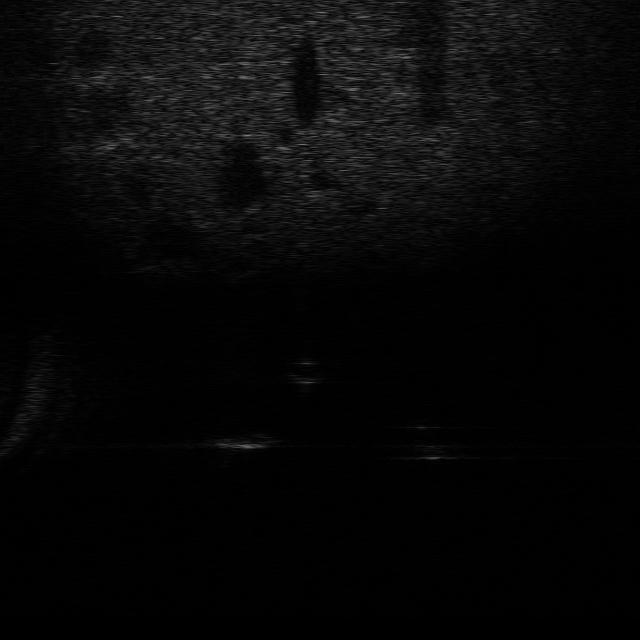ball: (275, 354, 329, 388)
square cage: (200, 426, 285, 458)
tyre: (405, 417, 456, 461)
